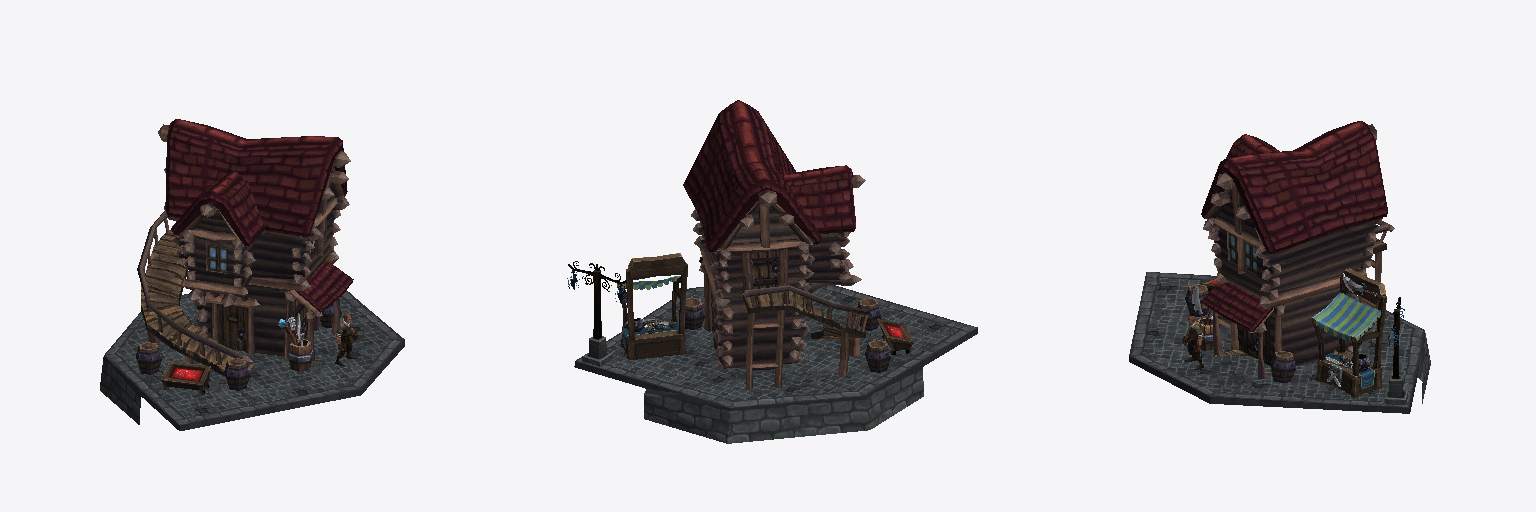
3 renders of one model, left to right at view 1: azimuth 30°, elevation 25°; view 2: azimuth 150°, elevation 25°; view 3: azimuth 270°, elevation 25°, orthographic.
Parts seen in each view (by area): view 1: DrawCall_6, DrawCall_9, DrawCall_1, DrawCall_4, DrawCall_0, DrawCall_2, DrawCall10, DrawCall_8, DrawCall_3, DrawCall12; view 2: DrawCall_0, DrawCall_6, DrawCall_1, DrawCall_9, DrawCall_2, DrawCall_4, DrawCall_3, DrawCall10, DrawCall_5, DrawCall11; view 3: DrawCall_6, DrawCall_9, DrawCall_1, DrawCall_0, DrawCall_3, DrawCall_2, DrawCall_4, DrawCall11, DrawCall10, DrawCall_5, DrawCall12, DrawCall_8.
Part boxes in pixels (x1,y1,x2,y2): DrawCall_6: (137,124,344,364); DrawCall_9: (169,120,352,307); DrawCall_1: (116,297,391,417); DrawCall_4: (141,126,350,375); DrawCall_0: (100,290,404,430); DrawCall_2: (166,119,353,312); DrawCall10: (136,303,341,390); DrawCall_8: (278,313,312,371); DrawCall_3: (161,361,210,394); DrawCall12: (335,313,358,365); DrawCall_0: (574,283,977,443); DrawCall_6: (695,175,869,390); DrawCall_1: (606,285,958,399); DrawCall_9: (683,105,852,245); DrawCall_2: (687,100,855,262); DrawCall_4: (691,175,865,368); DrawCall_3: (617,253,913,360); DrawCall10: (684,297,890,372); DrawCall_5: (568,261,626,366); DrawCall11: (622,318,904,348); DrawCall_6: (1204,124,1391,378); DrawCall_9: (1201,122,1386,328); DrawCall_1: (1143,278,1411,401); DrawCall_0: (1129,272,1430,413); DrawCall_3: (1200,268,1386,397); DrawCall_2: (1201,121,1387,331); DrawCall_4: (1202,140,1394,365); DrawCall11: (1209,273,1377,388); DrawCall10: (1185,284,1295,382); DrawCall_5: (1383,297,1407,404); DrawCall12: (1182,316,1203,369); DrawCall_8: (1192,284,1213,350).
Size of the model in its own units: 14.06 by 11.63 by 12.83.
13 materials, 13 textured.